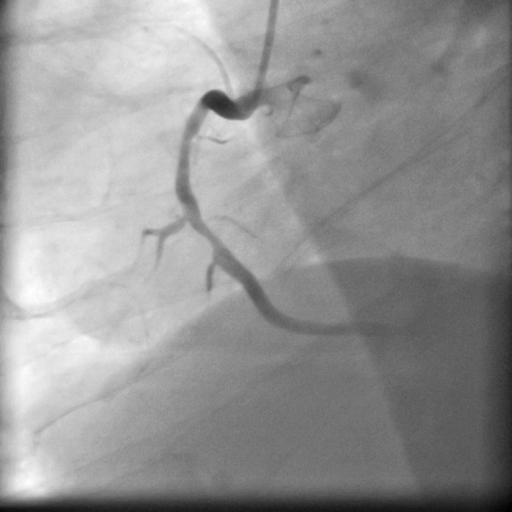Stenosis: (183, 202, 219, 249)
